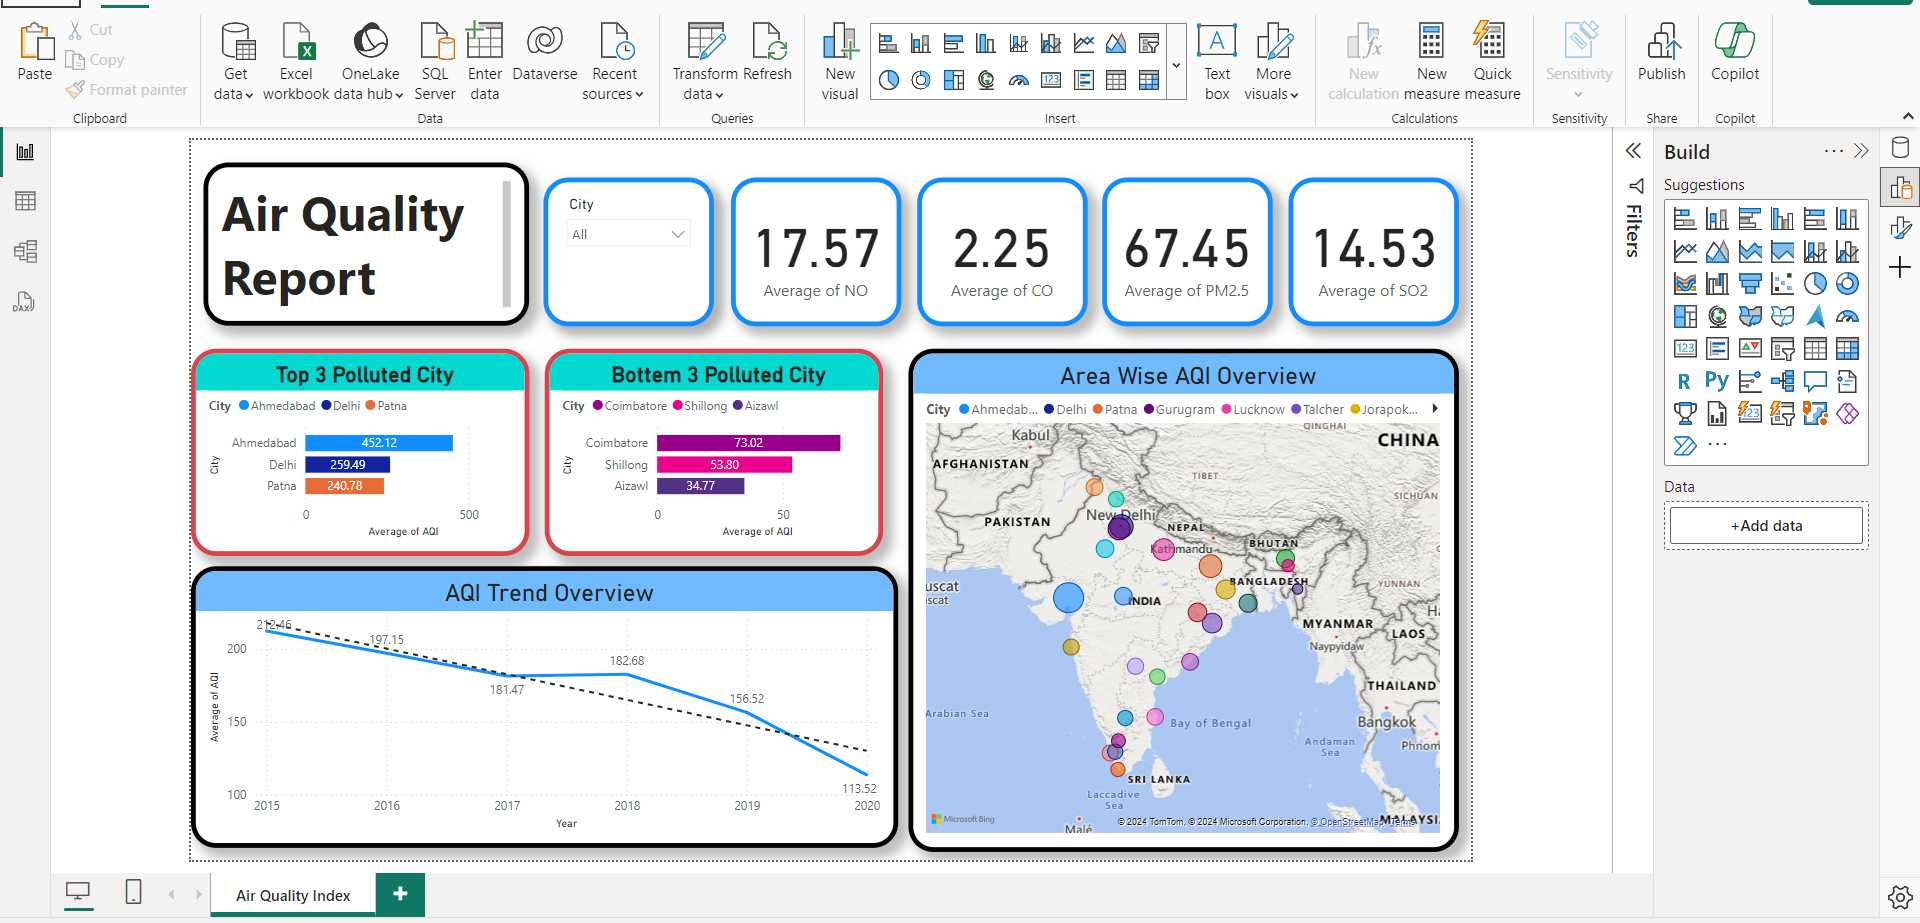

Layout of this report page (visuals, bound fields, positions):
{"tool":"powerbi","page":{"name":"Air Quality Index","canvas":[1280,720],"ordinal":0},"visuals":[{"type":"lineChart","title":"AQI Trend Overview","fields":{"Category":["city_day.Date.Variation.Date Hierarchy.Year","city_day.Date.Variation.Date Hierarchy.Quarter","city_day.Date.Variation.Date Hierarchy.Month","city_day.Date.Variation.Date Hierarchy.Day"],"Y":["Avg(city_day.AQI)"]},"box":[0,425.7,707.1,281.4],"z":0},{"type":"slicer","fields":{"Values":["city_day.City"]},"box":[352.9,37.1,170,148.6],"z":1000},{"type":"barChart","title":"Top 3 Polluted City","fields":{"Category":["city_day.City"],"Y":["Avg(city_day.AQI)"],"Series":["city_day.City"]},"box":[0,208.6,338.6,207.1],"z":2000},{"type":"barChart","title":"Bottem 3 Polluted City","fields":{"Category":["city_day.City"],"Y":["Avg(city_day.AQI)"],"Series":["city_day.City"]},"box":[354.3,208.6,338.6,207.1],"z":3000},{"type":"card","fields":{"Values":["Avg(city_day.CO)"]},"box":[725.7,37.1,170,148.6],"z":4000},{"type":"card","fields":{"Values":["Avg(city_day.NO)"]},"box":[540,37.1,170,148.6],"z":5000},{"type":"card","fields":{"Values":["Avg(city_day.SO2)"]},"box":[1097.1,37.1,170,148.6],"z":6000},{"type":"card","fields":{"Values":["Avg(city_day.PM2.5)"]},"box":[911.4,37.1,170,148.6],"z":7000},{"type":"map","title":"Area Wise AQI Overview","fields":{"Category":["city_day.City"],"Size":["Avg(city_day.AQI)"],"Series":["city_day.City"]},"box":[717.1,208.6,550,502.9],"z":8000},{"type":"textbox","box":[12.9,22.9,325.7,162.9],"z":9000}]}

Visuals, with their boxes on the page's 1280x720 design canvas (x1, y1, x2, y2). These are canvas units, not pixel positions in the 1920x923 screenshot, which may show the page scaled, cropped or inside an application window:
"AQI Trend Overview" lineChart: x1=0, y1=426, x2=707, y2=707
slicer - city_day.City: x1=353, y1=37, x2=523, y2=186
"Top 3 Polluted City" barChart: x1=0, y1=209, x2=339, y2=416
"Bottem 3 Polluted City" barChart: x1=354, y1=209, x2=693, y2=416
card - Avg(city_day.CO): x1=726, y1=37, x2=896, y2=186
card - Avg(city_day.NO): x1=540, y1=37, x2=710, y2=186
card - Avg(city_day.SO2): x1=1097, y1=37, x2=1267, y2=186
card - Avg(city_day.PM2.5): x1=911, y1=37, x2=1081, y2=186
"Area Wise AQI Overview" map: x1=717, y1=209, x2=1267, y2=712
textbox: x1=13, y1=23, x2=339, y2=186
